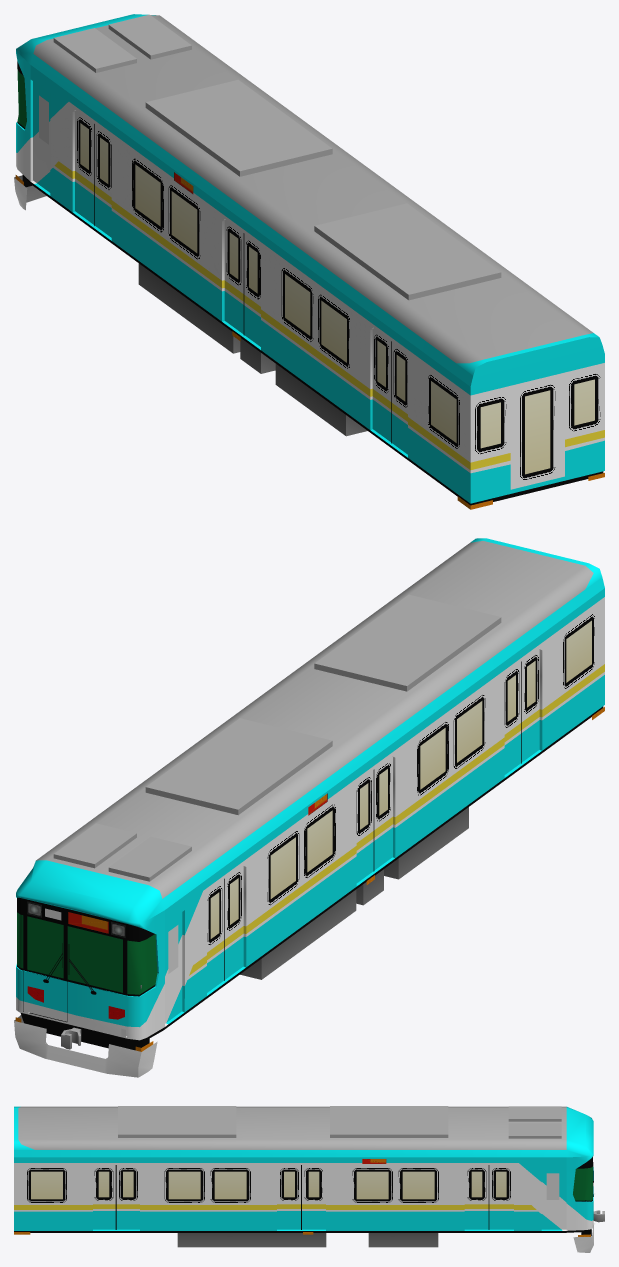
3 views of the same model, one above another, from view 1: azimuth 30°, elevation 25°; view 2: azimuth 150°, elevation 25°; view 3: azimuth 270°, elevation 25° (orthographic). The views are drawn at different scales.
Visible parts, largest first — view 1: body; view 2: body; view 3: body.
Boxes of the visible parts, box(x1,y1,x2,y2) form: body: box(14, 14, 604, 509); body: box(14, 538, 604, 1077); body: box(14, 1106, 604, 1252).
Bounding box in the file's own units: 6.09 × 7.86 × 36.63.
14 materials, 13 textured.
